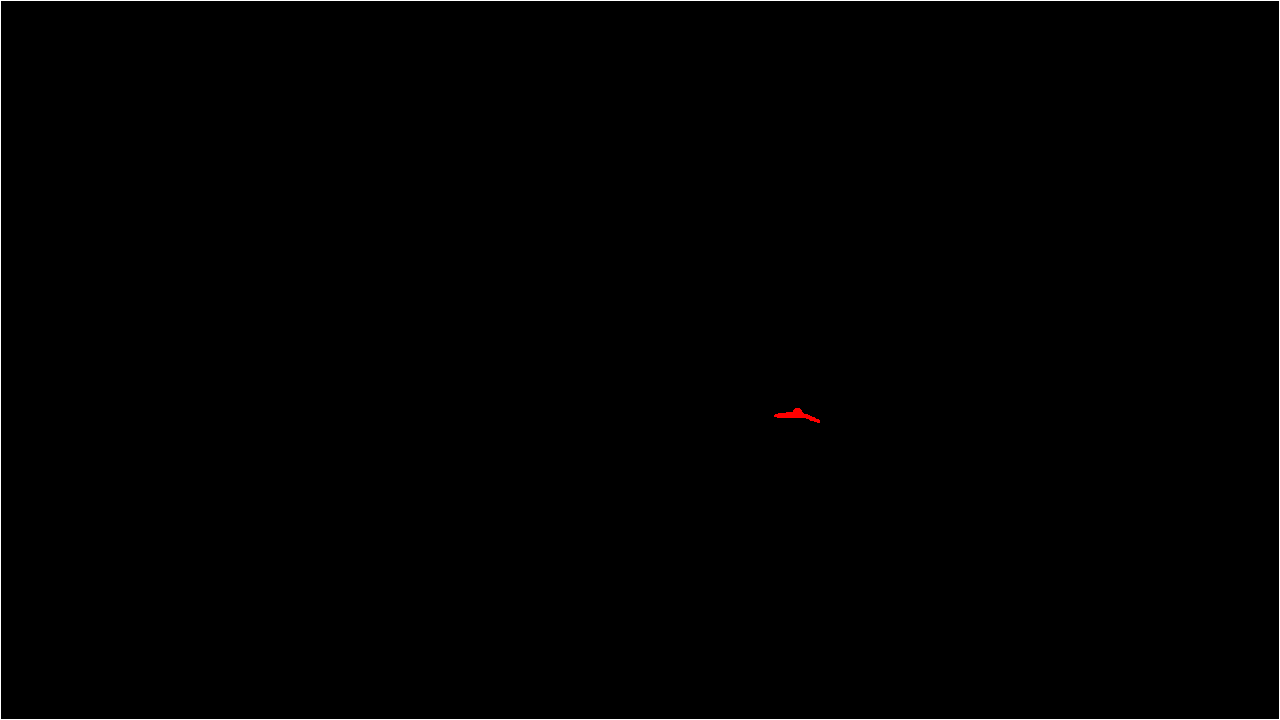drone: (760, 400, 830, 436)
